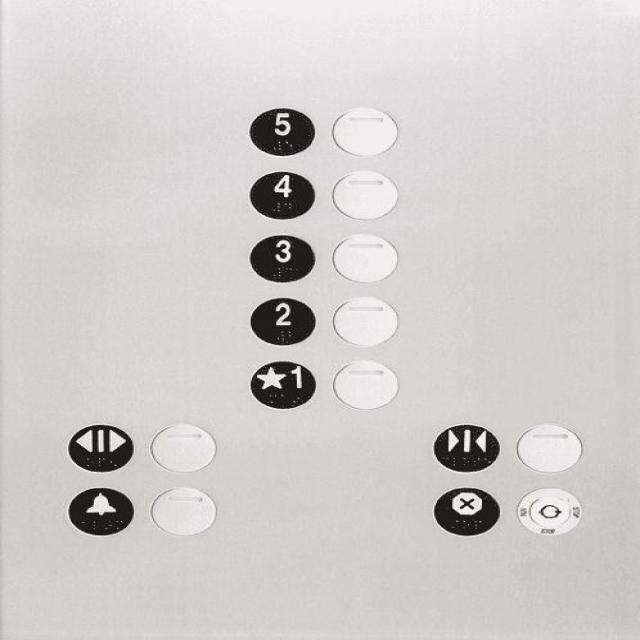2: (248, 296, 316, 346)
3: (248, 233, 315, 281)
4: (247, 169, 315, 218)
5: (248, 106, 315, 155)
alarm: (66, 486, 134, 535)
bt_keyhole: (516, 485, 582, 536)
close: (432, 423, 500, 472)
empty: (330, 169, 400, 220), (329, 296, 398, 347), (146, 423, 218, 471), (329, 106, 398, 156), (330, 359, 400, 408), (331, 231, 398, 282), (148, 486, 216, 536), (516, 422, 582, 473)
open: (65, 424, 134, 472)
s1: (249, 359, 315, 408)
stop: (429, 484, 500, 535)
